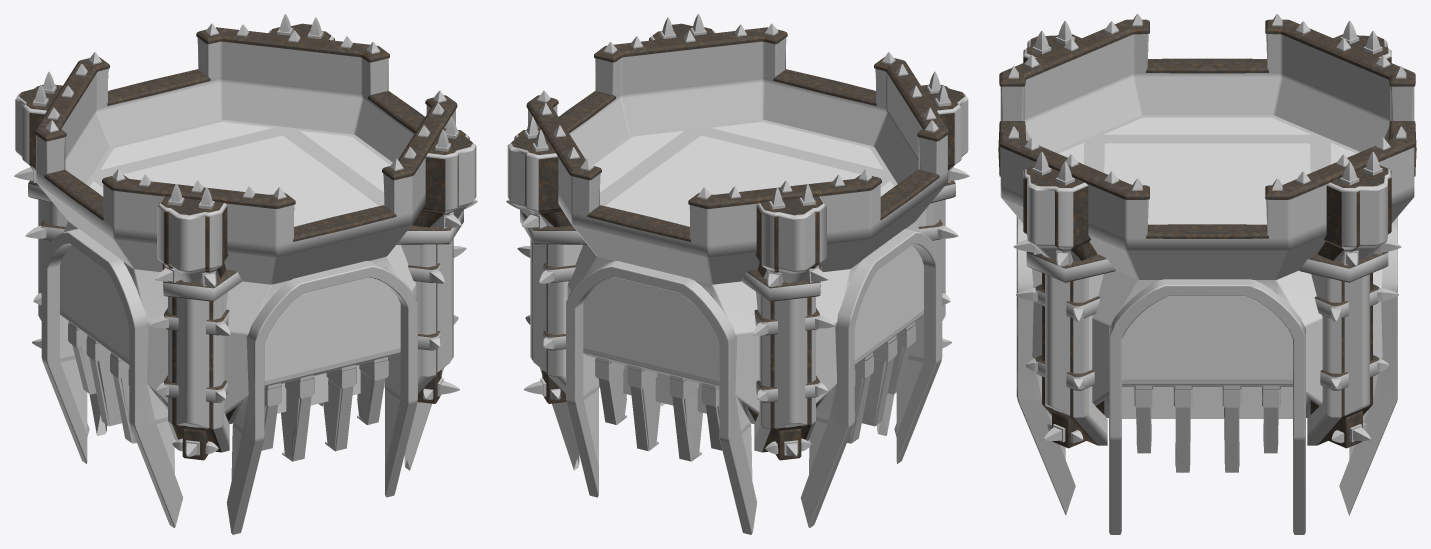
The picture shows the model from 3 angles, left to right: view 1: azimuth 30°, elevation 25°; view 2: azimuth 150°, elevation 25°; view 3: azimuth 270°, elevation 25°; orthographic projection. The views are drawn at different scales.
Visible parts, largest first — view 1: SM_Dowdun_Tower_Turret_01_LOD0; view 2: SM_Dowdun_Tower_Turret_01_LOD0; view 3: SM_Dowdun_Tower_Turret_01_LOD0.
Boxes of the visible parts, <box> form: SM_Dowdun_Tower_Turret_01_LOD0: <box>14,14,477,534</box>; SM_Dowdun_Tower_Turret_01_LOD0: <box>506,14,969,534</box>; SM_Dowdun_Tower_Turret_01_LOD0: <box>998,14,1416,534</box>.
Size of the model in its own units: 17.78 by 17.89 by 17.69.
